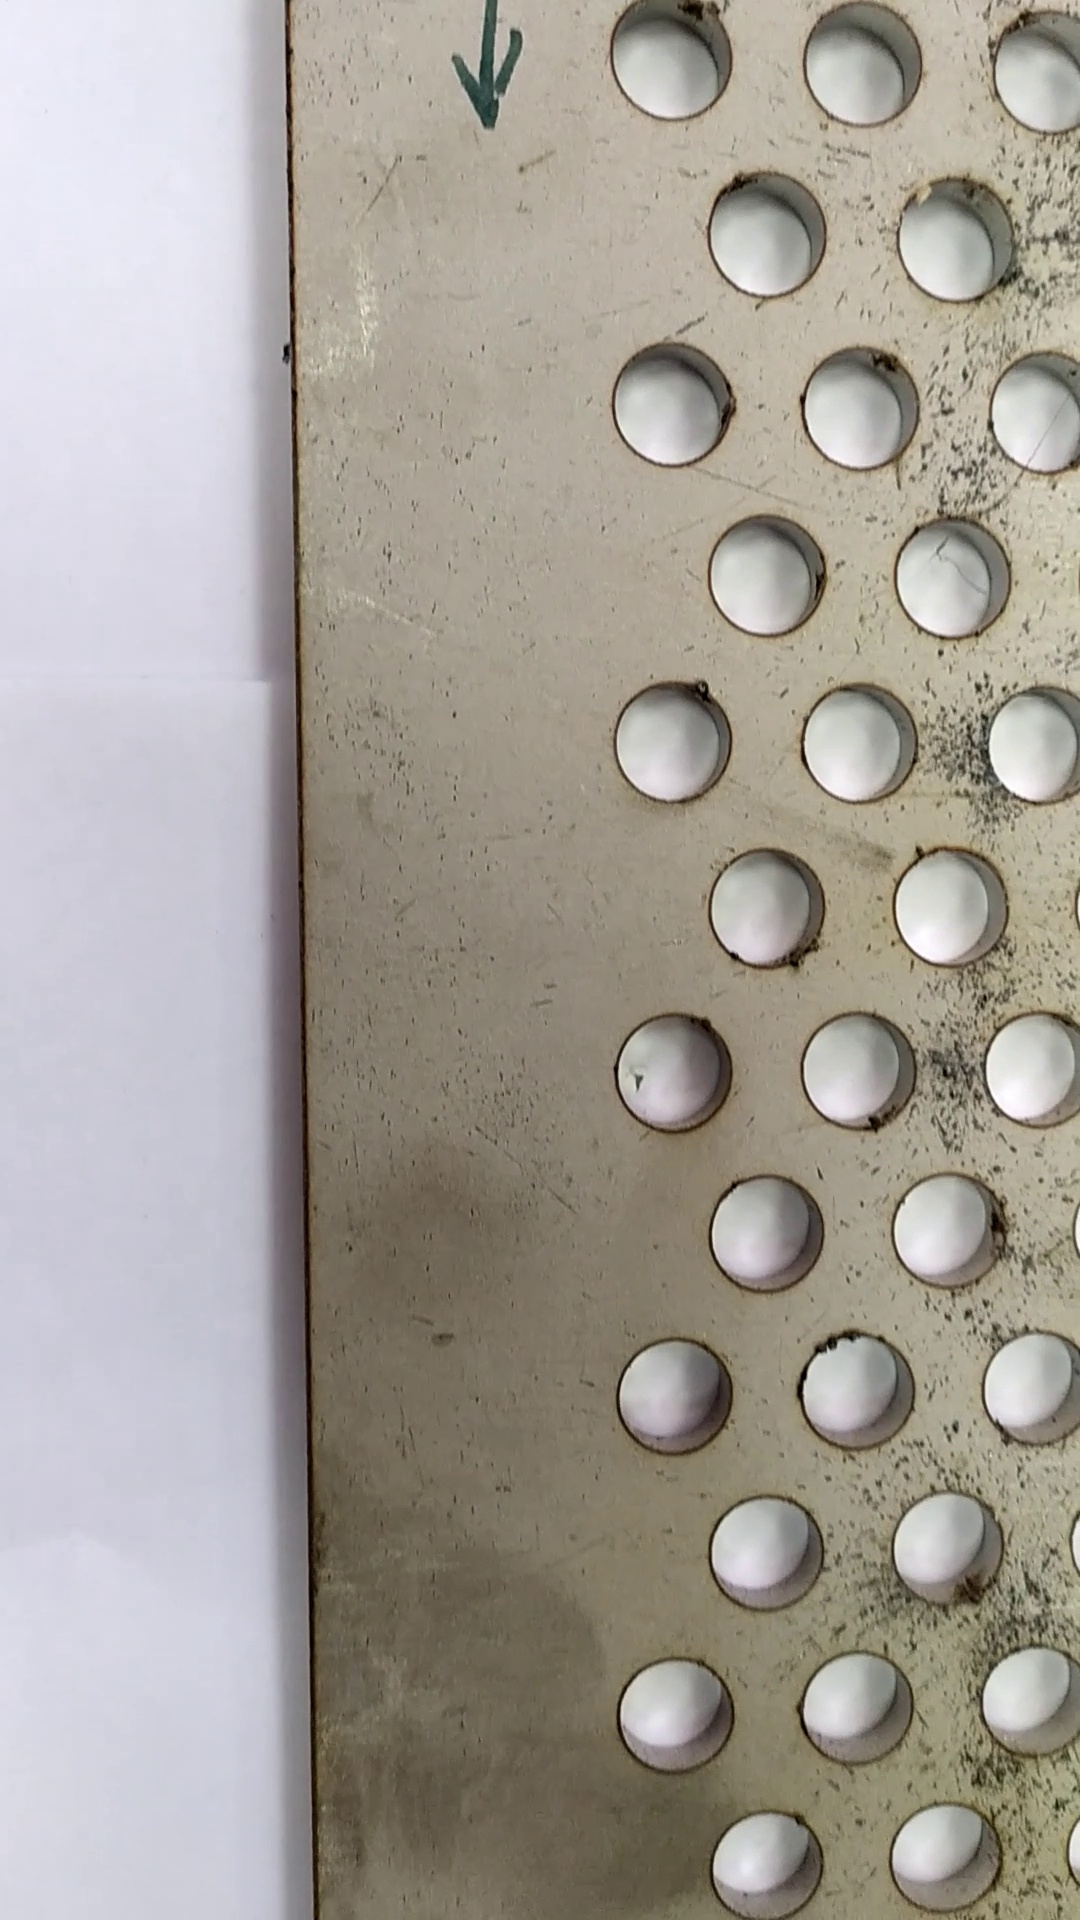Hole: (589, 330, 746, 483), (592, 1004, 757, 1149), (691, 156, 837, 303), (787, 334, 936, 477), (593, 669, 742, 811), (688, 501, 843, 636), (791, 1001, 930, 1149), (877, 836, 1021, 977), (789, 1315, 928, 1460), (600, 1331, 749, 1466), (880, 1160, 1025, 1299), (793, 1, 934, 142), (604, 1648, 753, 1782), (696, 1485, 843, 1619), (793, 671, 928, 814), (891, 167, 1029, 307), (881, 505, 1021, 642), (880, 1481, 1014, 1619), (700, 1166, 840, 1299), (877, 1795, 1021, 1919), (787, 1642, 926, 1770), (700, 833, 828, 971), (708, 1801, 840, 1920)
